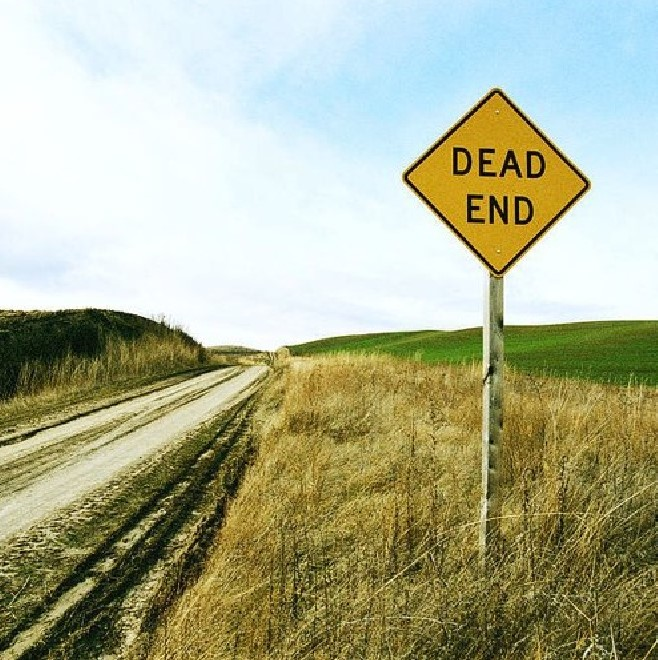Deadend: (399, 86, 594, 280)
